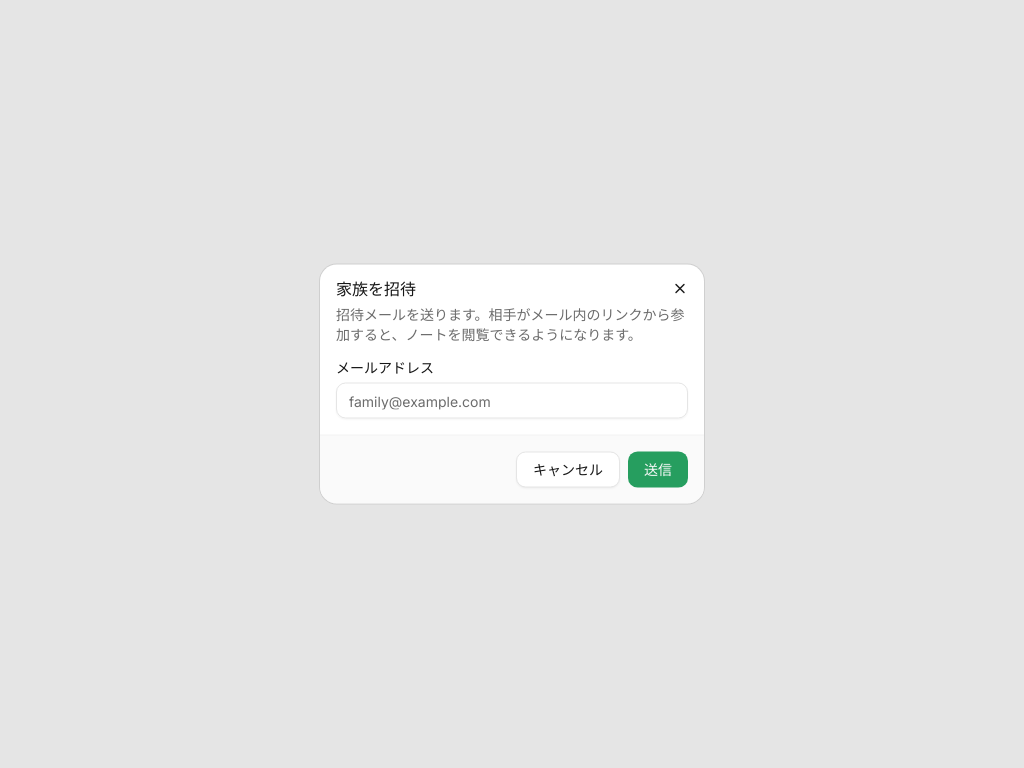
Scenario: InviteDialog › 無効なメールでエラー表示（DoD）
In the field labelled "メールアドレス": [512, 400] box 336,382 -> 688,418, type "foo"
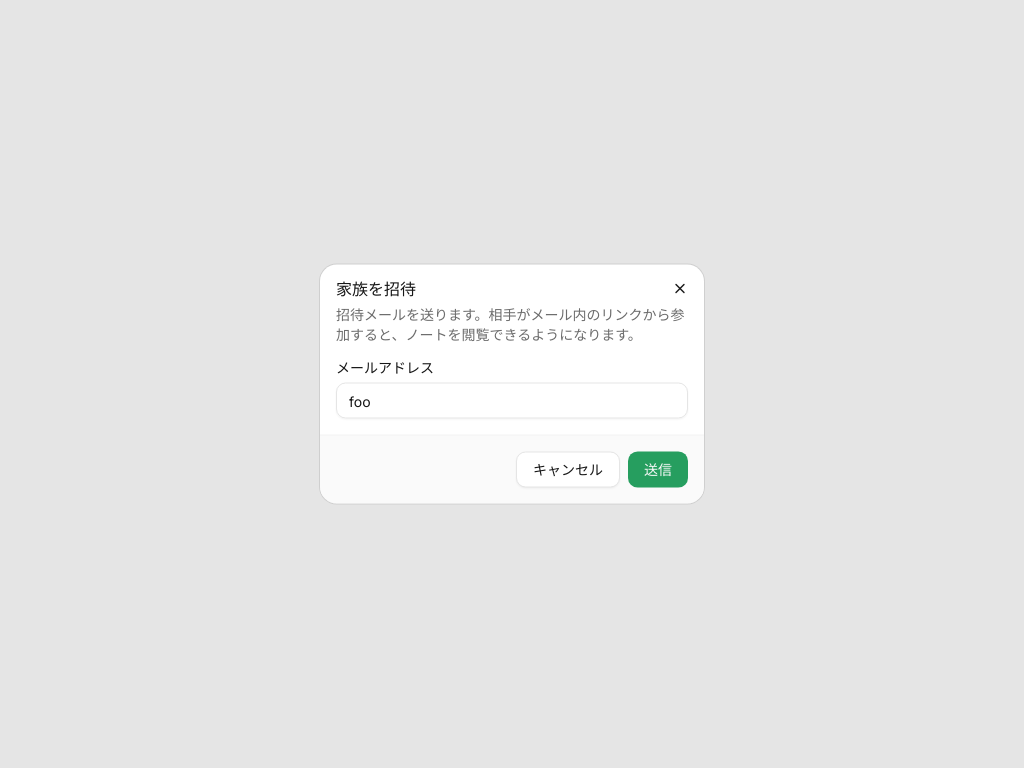
Click the button "送信": [658, 470] box 628,452 -> 688,488
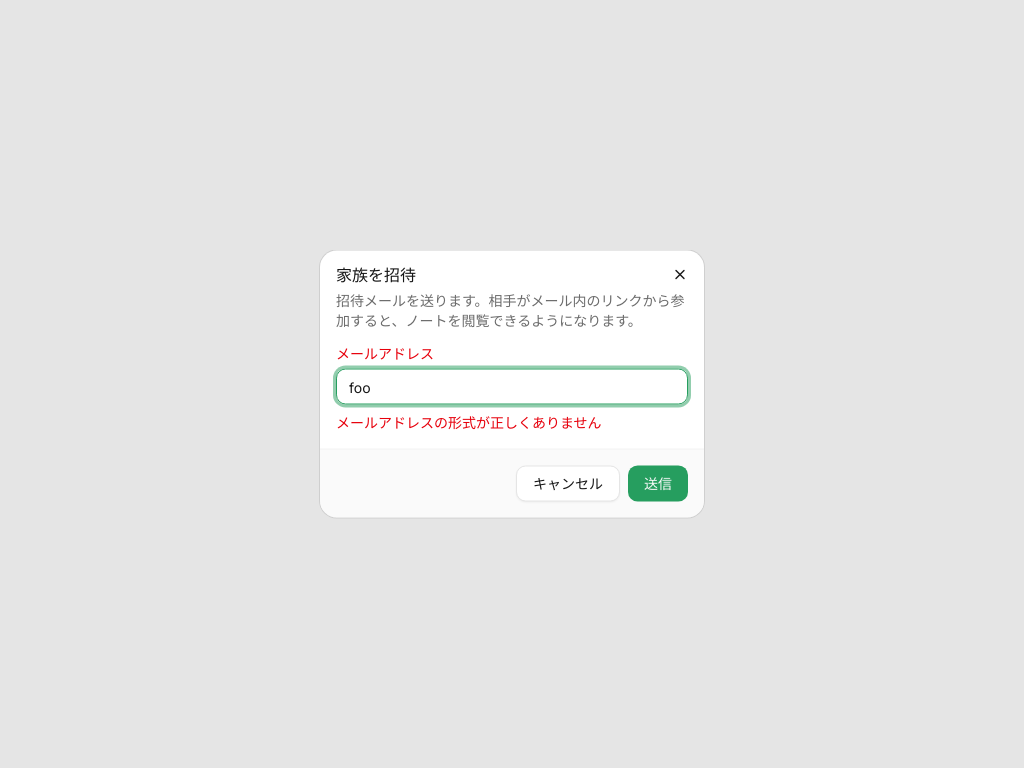
expect the text "メールアドレスの形式が正しくありません" is shown: met, box 336,414 -> 602,430
